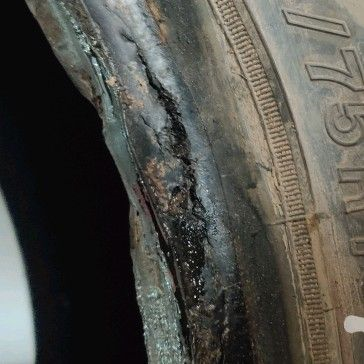bead_damage: (30, 0, 261, 361)
